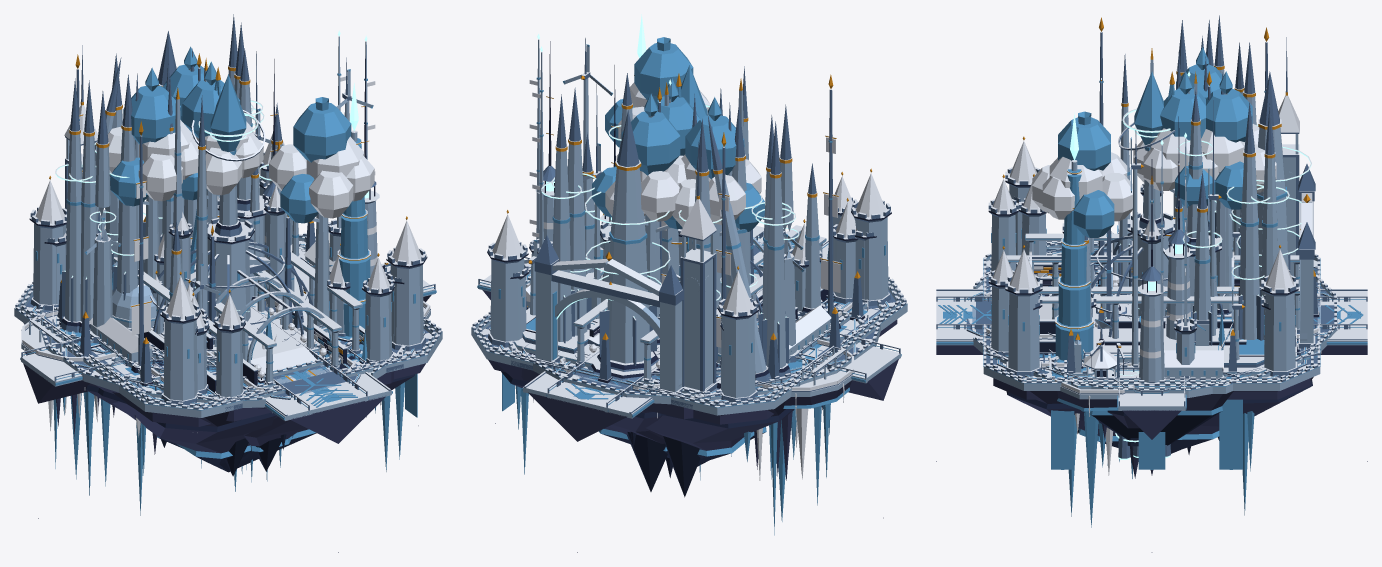
The model's file is SC_RECOLOR_RIME.fbx.
3 renders of one model, left to right at view 1: azimuth 30°, elevation 25°; view 2: azimuth 150°, elevation 25°; view 3: azimuth 270°, elevation 25°, orthographic. The views are drawn at different scales.
Visible parts, largest first — view 1: chunk_spire_court__rime, chunk_sky_tree_grove__rime, chunk_boss_clearing__rime, chunk_path_colonnade__rime, chunk_aether_springs__rime, chunk_parade_ground__rime, chunk_spire_court_b__rime, chunk_path_straight__rime, chunk_side_garden__rime, chunk_archive__rime, chunk_entry__rime, chunk_garden_terrace__rime (+19 smaller); view 2: chunk_spire_court__rime, chunk_boss_clearing__rime, chunk_garden_terrace__rime, chunk_archive__rime, chunk_sky_tree_grove__rime, chunk_parade_ground__rime, chunk_path_colonnade__rime, chunk_armory__rime, chunk_spire_court_b__rime, chunk_aether_springs__rime, chunk_path_long_span__rime, chunk_entry__rime (+14 smaller); view 3: chunk_spire_court__rime, chunk_boss_clearing__rime, chunk_aether_springs__rime, chunk_garden_terrace__rime, chunk_sky_tree_grove__rime, chunk_armory__rime, chunk_archive__rime, chunk_parade_ground__rime, chunk_side_garden__rime, chunk_spire_court_b__rime, chunk_crossroads__rime, chunk_path_bend_west__rime (+17 smaller).
Part boxes in pixels (left/top/right/bottom): chunk_spire_court__rime: left=14, top=22, right=442, bottom=472; chunk_sky_tree_grove__rime: left=107, top=67, right=402, bottom=473; chunk_boss_clearing__rime: left=37, top=31, right=406, bottom=443; chunk_path_colonnade__rime: left=38, top=78, right=360, bottom=479; chunk_aether_springs__rime: left=20, top=83, right=425, bottom=552; chunk_parade_ground__rime: left=20, top=14, right=436, bottom=426; chunk_spire_court_b__rime: left=52, top=57, right=403, bottom=471; chunk_path_straight__rime: left=163, top=95, right=333, bottom=399; chunk_side_garden__rime: left=151, top=61, right=356, bottom=403; chunk_archive__rime: left=64, top=45, right=393, bottom=421; chunk_entry__rime: left=109, top=74, right=352, bottom=382; chunk_garden_terrace__rime: left=21, top=46, right=430, bottom=495; chunk_spire_court__rime: left=471, top=87, right=907, bottom=465; chunk_boss_clearing__rime: left=508, top=110, right=884, bottom=415; chunk_garden_terrace__rime: left=560, top=93, right=854, bottom=505; chunk_archive__rime: left=520, top=142, right=851, bottom=435; chunk_sky_tree_grove__rime: left=512, top=37, right=852, bottom=418; chunk_parade_ground__rime: left=477, top=94, right=901, bottom=424; chunk_path_colonnade__rime: left=552, top=121, right=811, bottom=521; chunk_armory__rime: left=525, top=132, right=869, bottom=497; chunk_spire_court_b__rime: left=511, top=38, right=869, bottom=491; chunk_aether_springs__rime: left=489, top=14, right=901, bottom=552; chunk_path_long_span__rime: left=515, top=74, right=864, bottom=477; chunk_entry__rime: left=559, top=104, right=830, bottom=406; chunk_spire_court__rime: left=983, top=42, right=1367, bottom=453; chunk_boss_clearing__rime: left=936, top=71, right=1336, bottom=398; chunk_aether_springs__rime: left=936, top=112, right=1367, bottom=552; chunk_garden_terrace__rime: left=984, top=71, right=1321, bottom=527; chunk_sky_tree_grove__rime: left=990, top=47, right=1312, bottom=367; chunk_armory__rime: left=936, top=27, right=1367, bottom=445; chunk_archive__rime: left=936, top=37, right=1367, bottom=360; chunk_parade_ground__rime: left=942, top=103, right=1365, bottom=399; chunk_side_garden__rime: left=947, top=71, right=1215, bottom=328; chunk_spire_court_b__rime: left=984, top=130, right=1319, bottom=439; chunk_crossroads__rime: left=937, top=71, right=1367, bottom=439; chunk_path_bend_west__rime: left=1096, top=159, right=1190, bottom=395.
Size of the model in its own units: 256 by 256 by 256.
